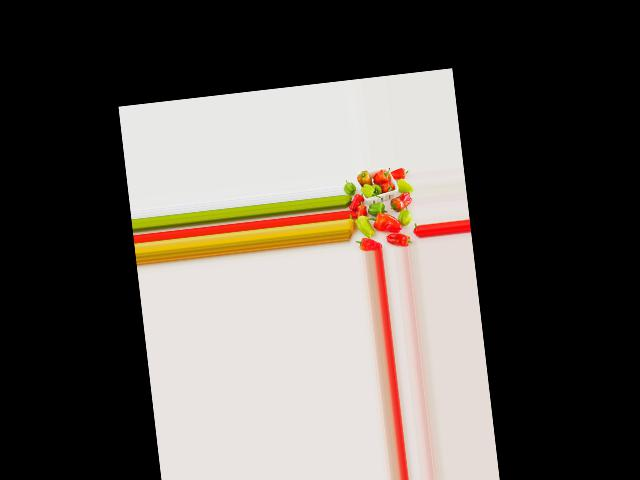bell_pepper: (354, 234, 379, 253)
